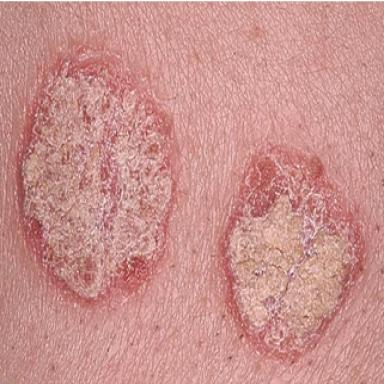Psoriasis: (20, 47, 175, 305), (225, 147, 361, 355)
